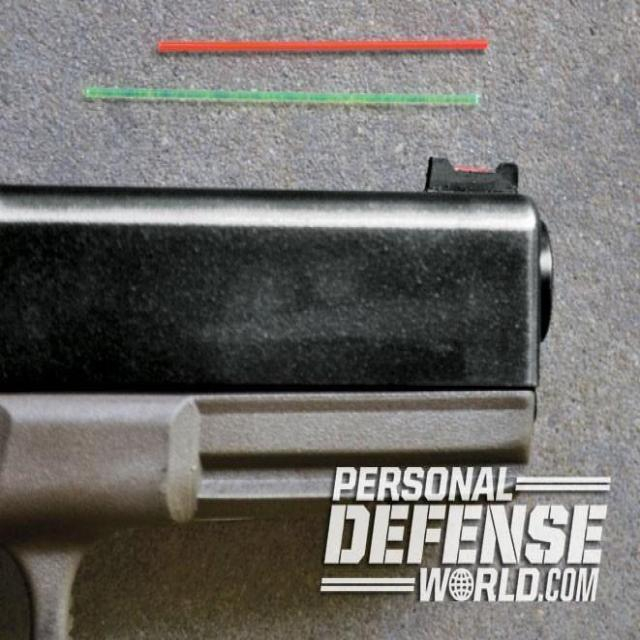gun: (0, 130, 560, 639)
